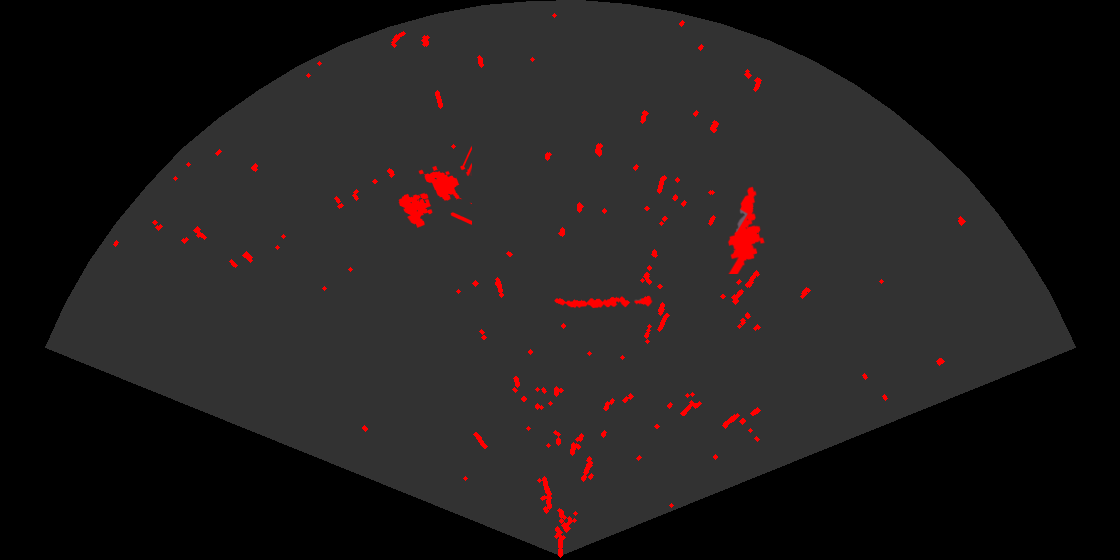cage: (397, 145, 472, 229)
chain: (553, 294, 653, 310)
frogman: (726, 185, 767, 274)
